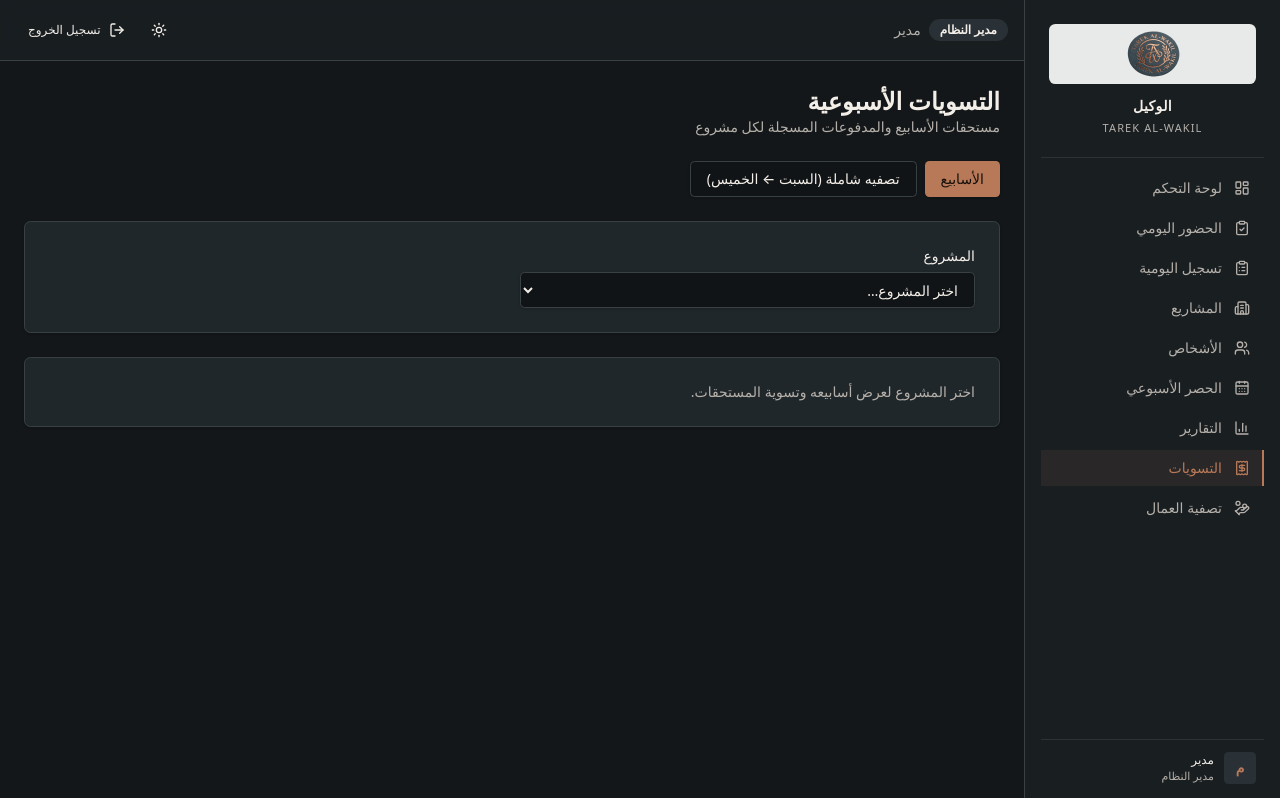
Scenario: SettlementsPage › shows dues and the payment ledger for the selected week
Step 1. Select "مشروع" in the dropdown labelled "المشروع" → (748, 290), box [520,272,975,308]
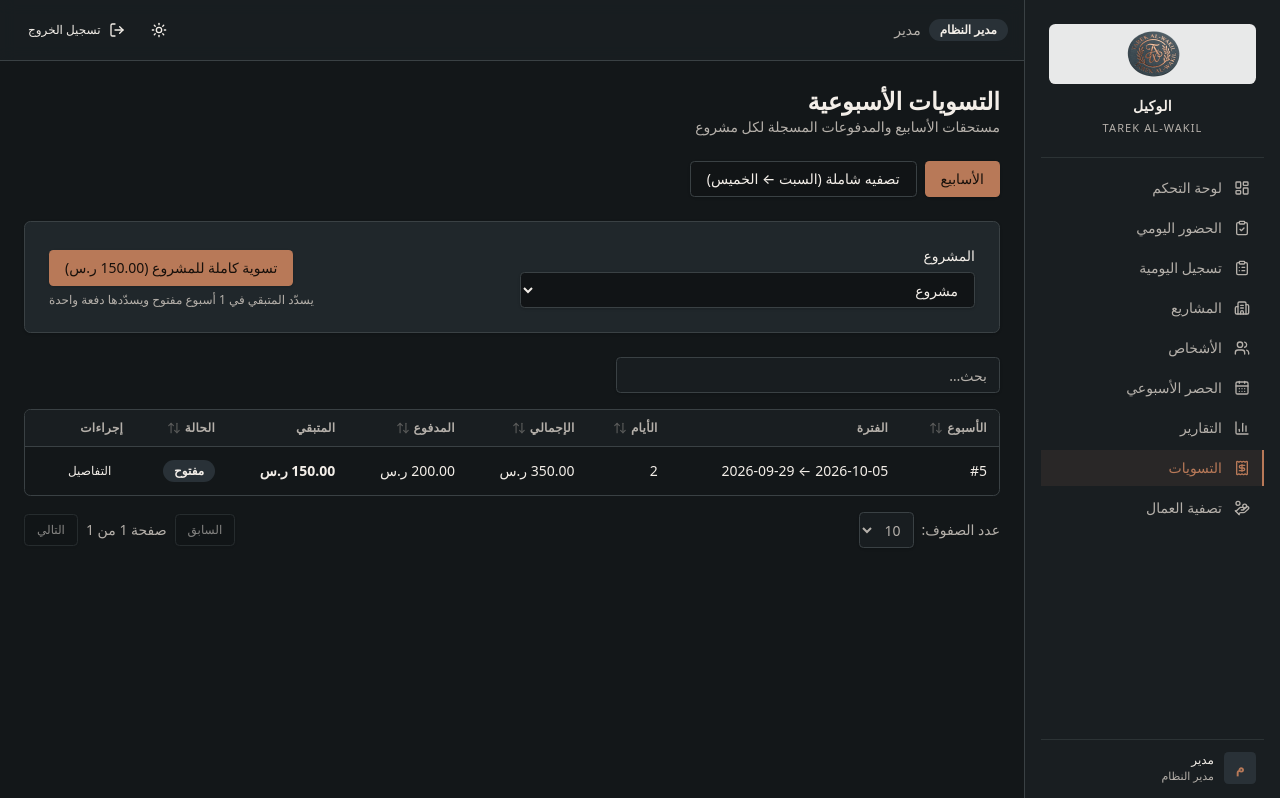
Now the button "التفاصيل" is shown
Step 2. Click the button "التفاصيل" → (90, 471), box [56,455,123,487]
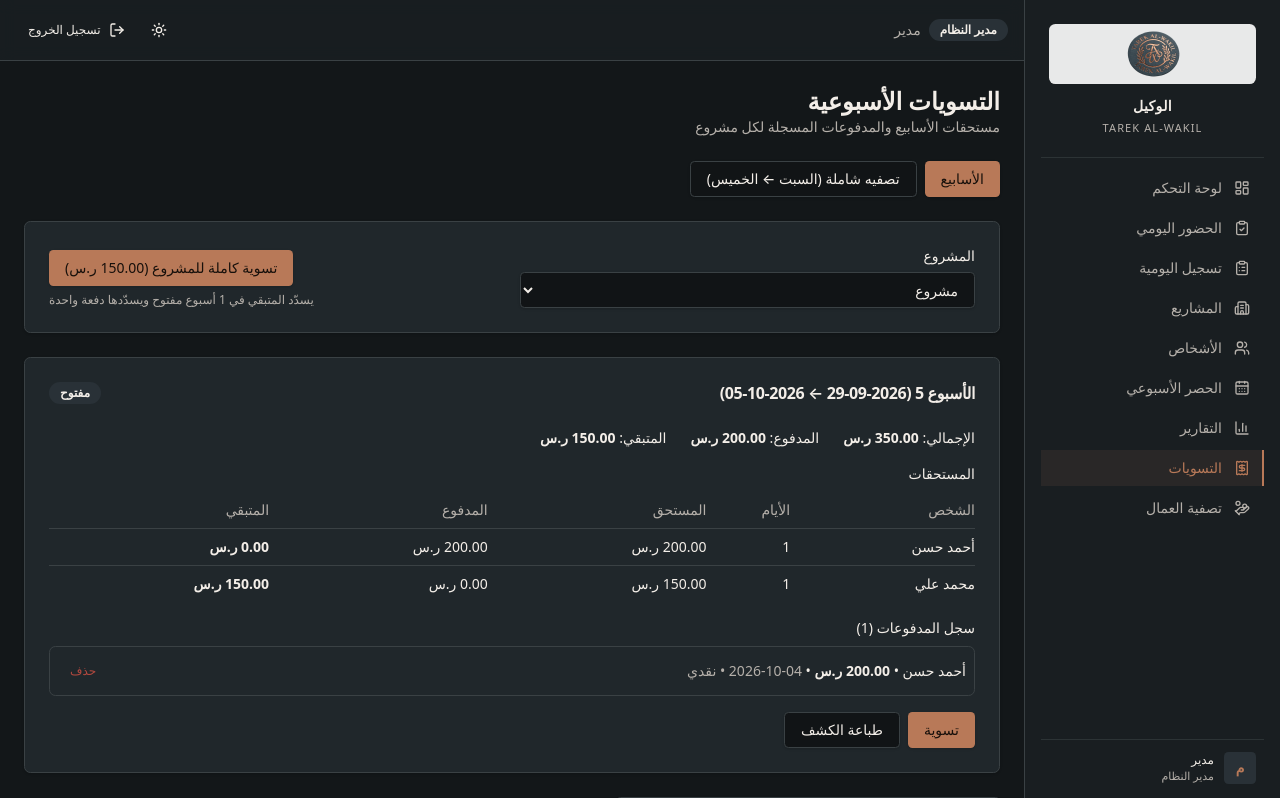
Now the heading "سجل المدفوعات (1)" is shown, box [857,618,975,637]
